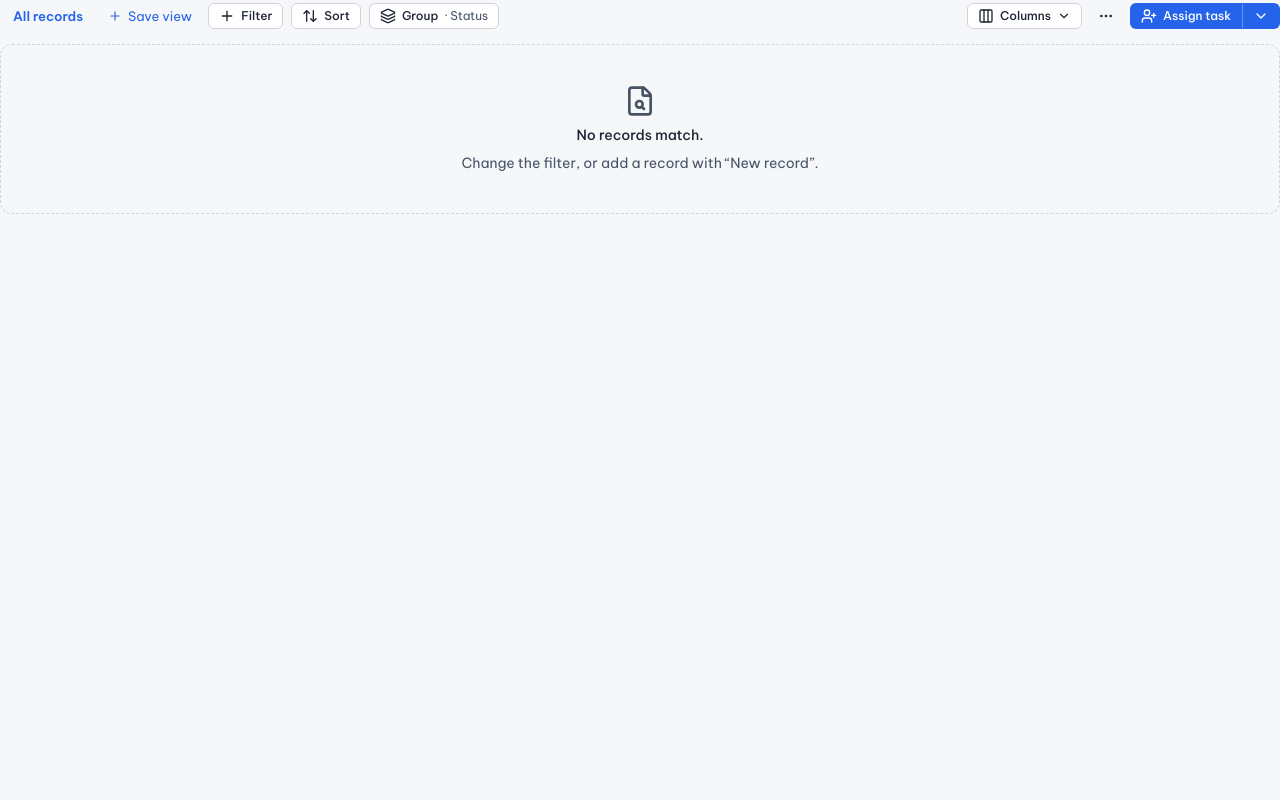
Test: a tab of the reports page › can be ungrouped like any other grouping
The image size is (1280, 800).
Click the button "Group · Status": {"x": 434, "y": 16} [369, 3, 499, 29]
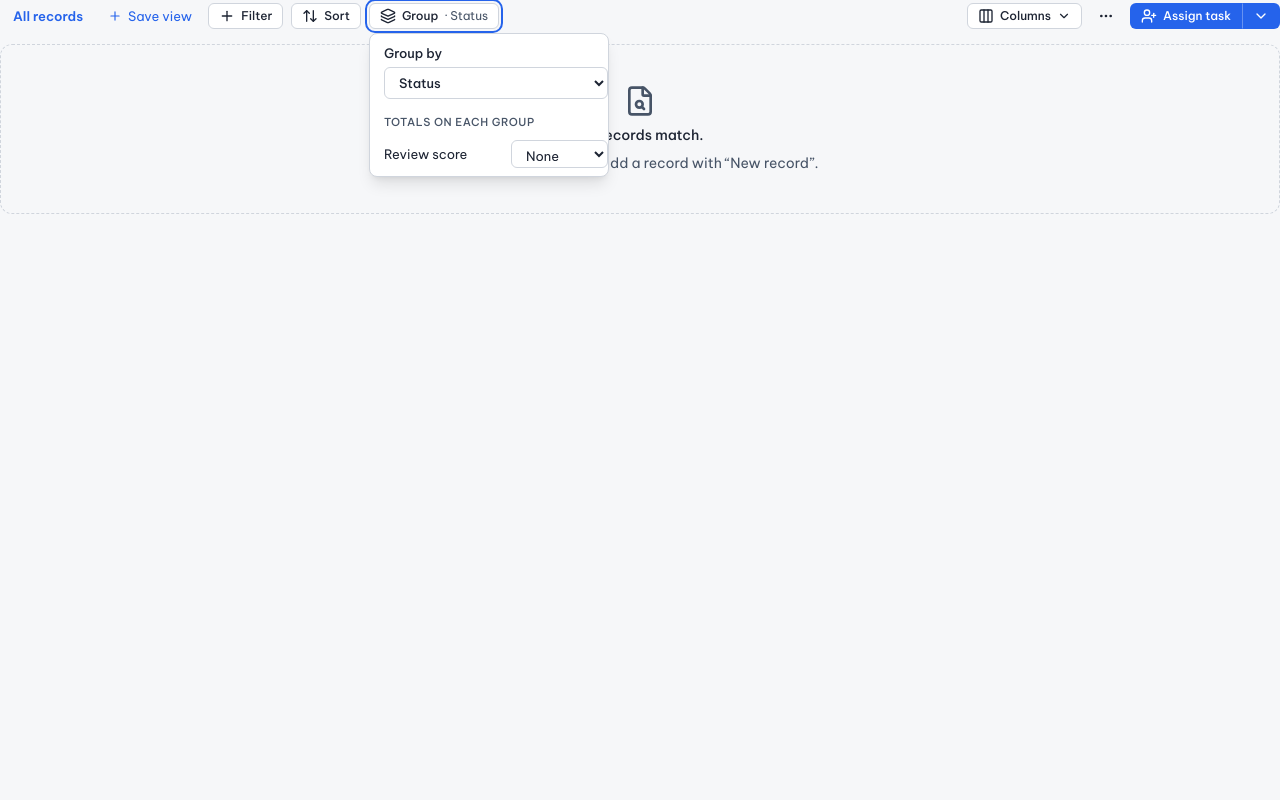
Select "No grouping" in the dropdown labelled "Group by": {"x": 496, "y": 83} [384, 67, 608, 99]
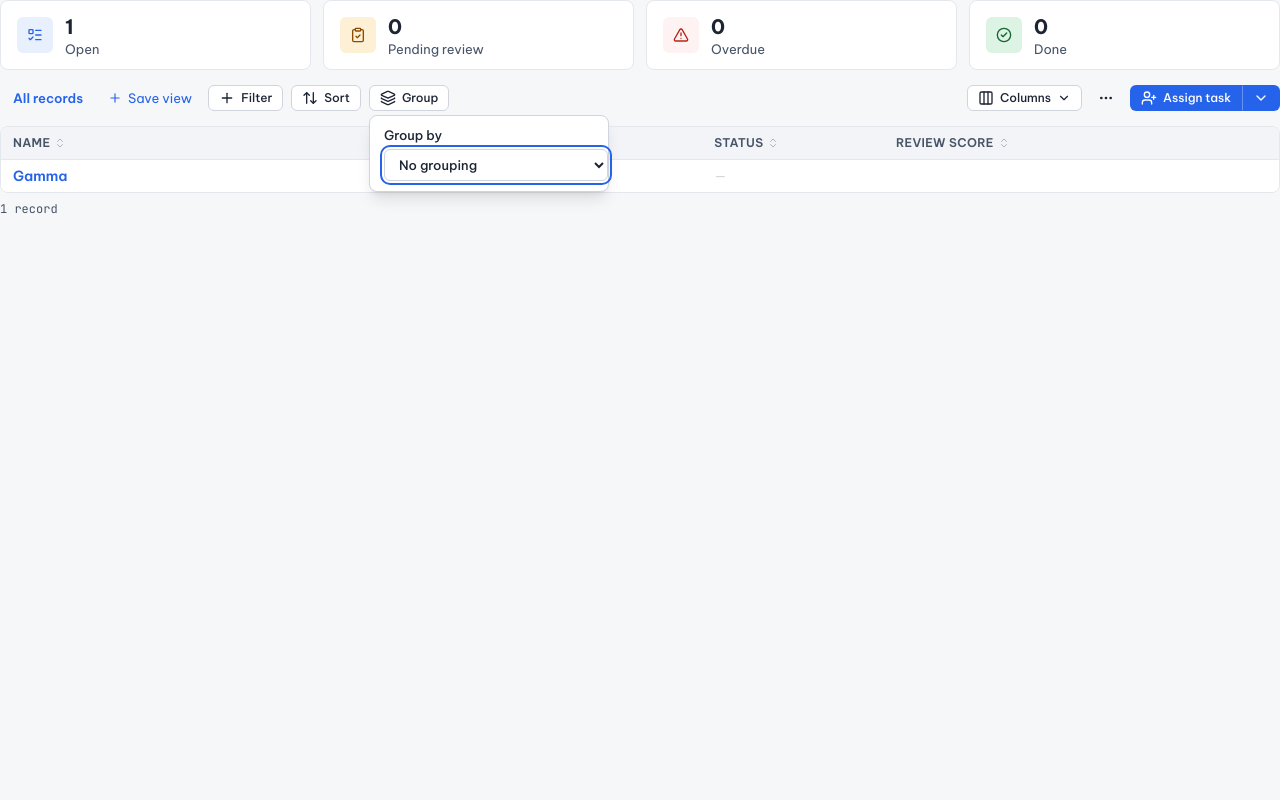
Check: the text "Gamma" is shown, box [13, 166, 67, 186]
